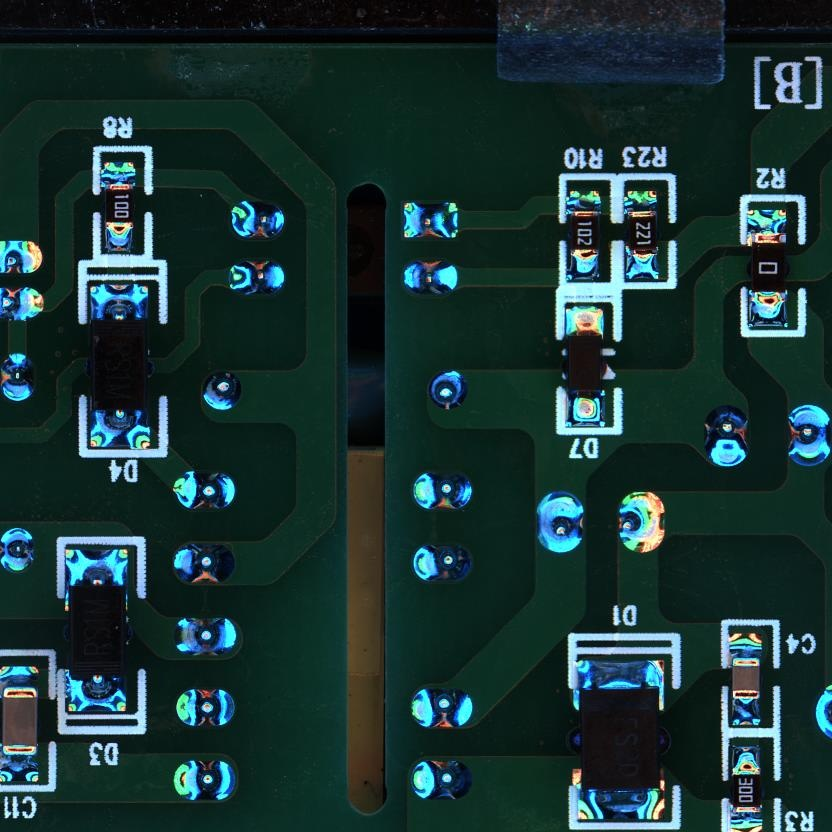spot: (613, 488, 666, 555), (536, 491, 588, 554), (703, 403, 752, 469), (170, 616, 240, 660), (408, 757, 475, 801), (173, 759, 239, 803), (785, 403, 829, 468), (409, 686, 473, 730), (171, 540, 237, 582), (411, 469, 474, 512), (172, 471, 236, 512), (411, 542, 472, 584), (401, 199, 460, 242), (173, 686, 235, 726), (228, 199, 284, 240), (228, 259, 286, 295), (402, 259, 460, 295), (200, 369, 243, 410), (427, 368, 467, 410), (1, 237, 44, 276), (1, 526, 34, 573), (1, 351, 32, 401), (1, 285, 44, 321)
